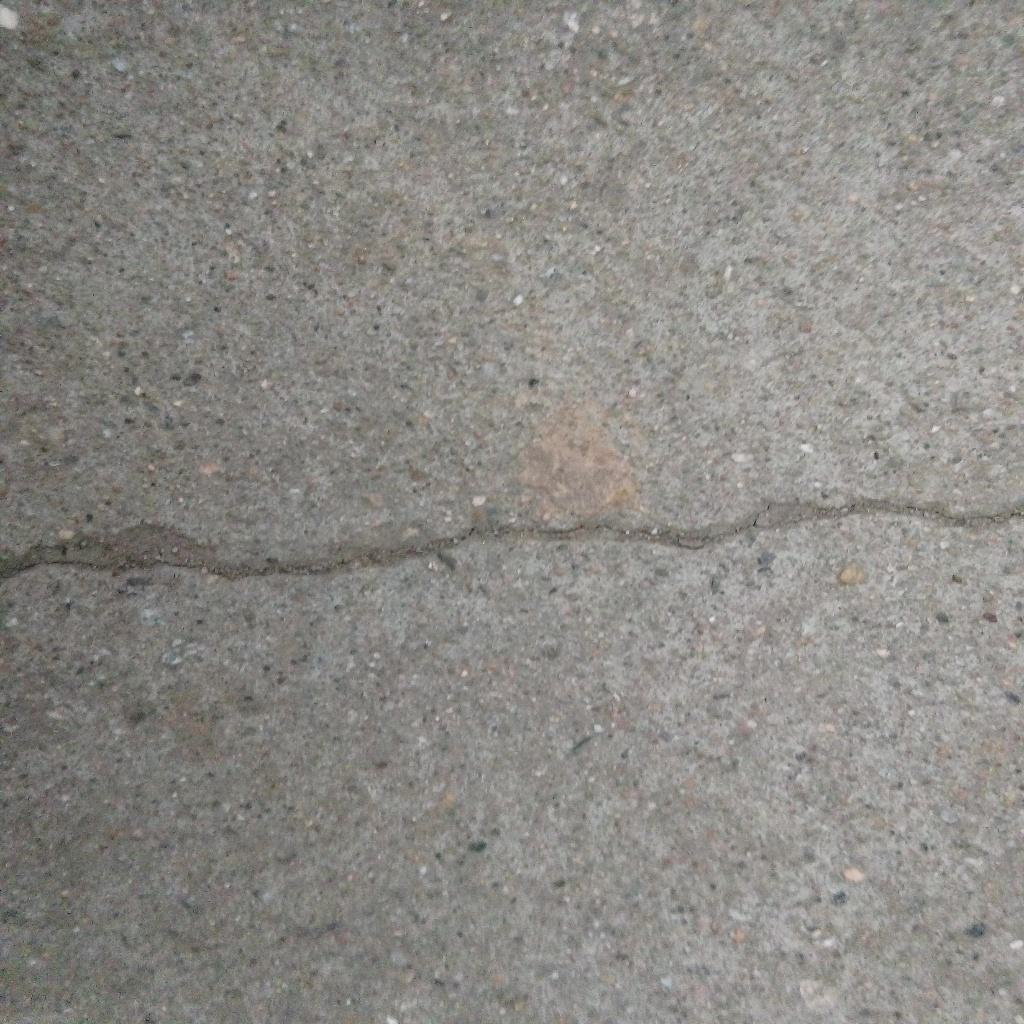Crack: (1, 494, 1024, 581)
